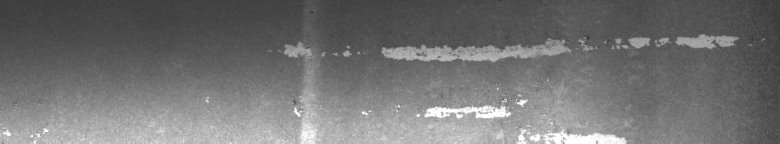kb: (206, 12, 765, 136)
